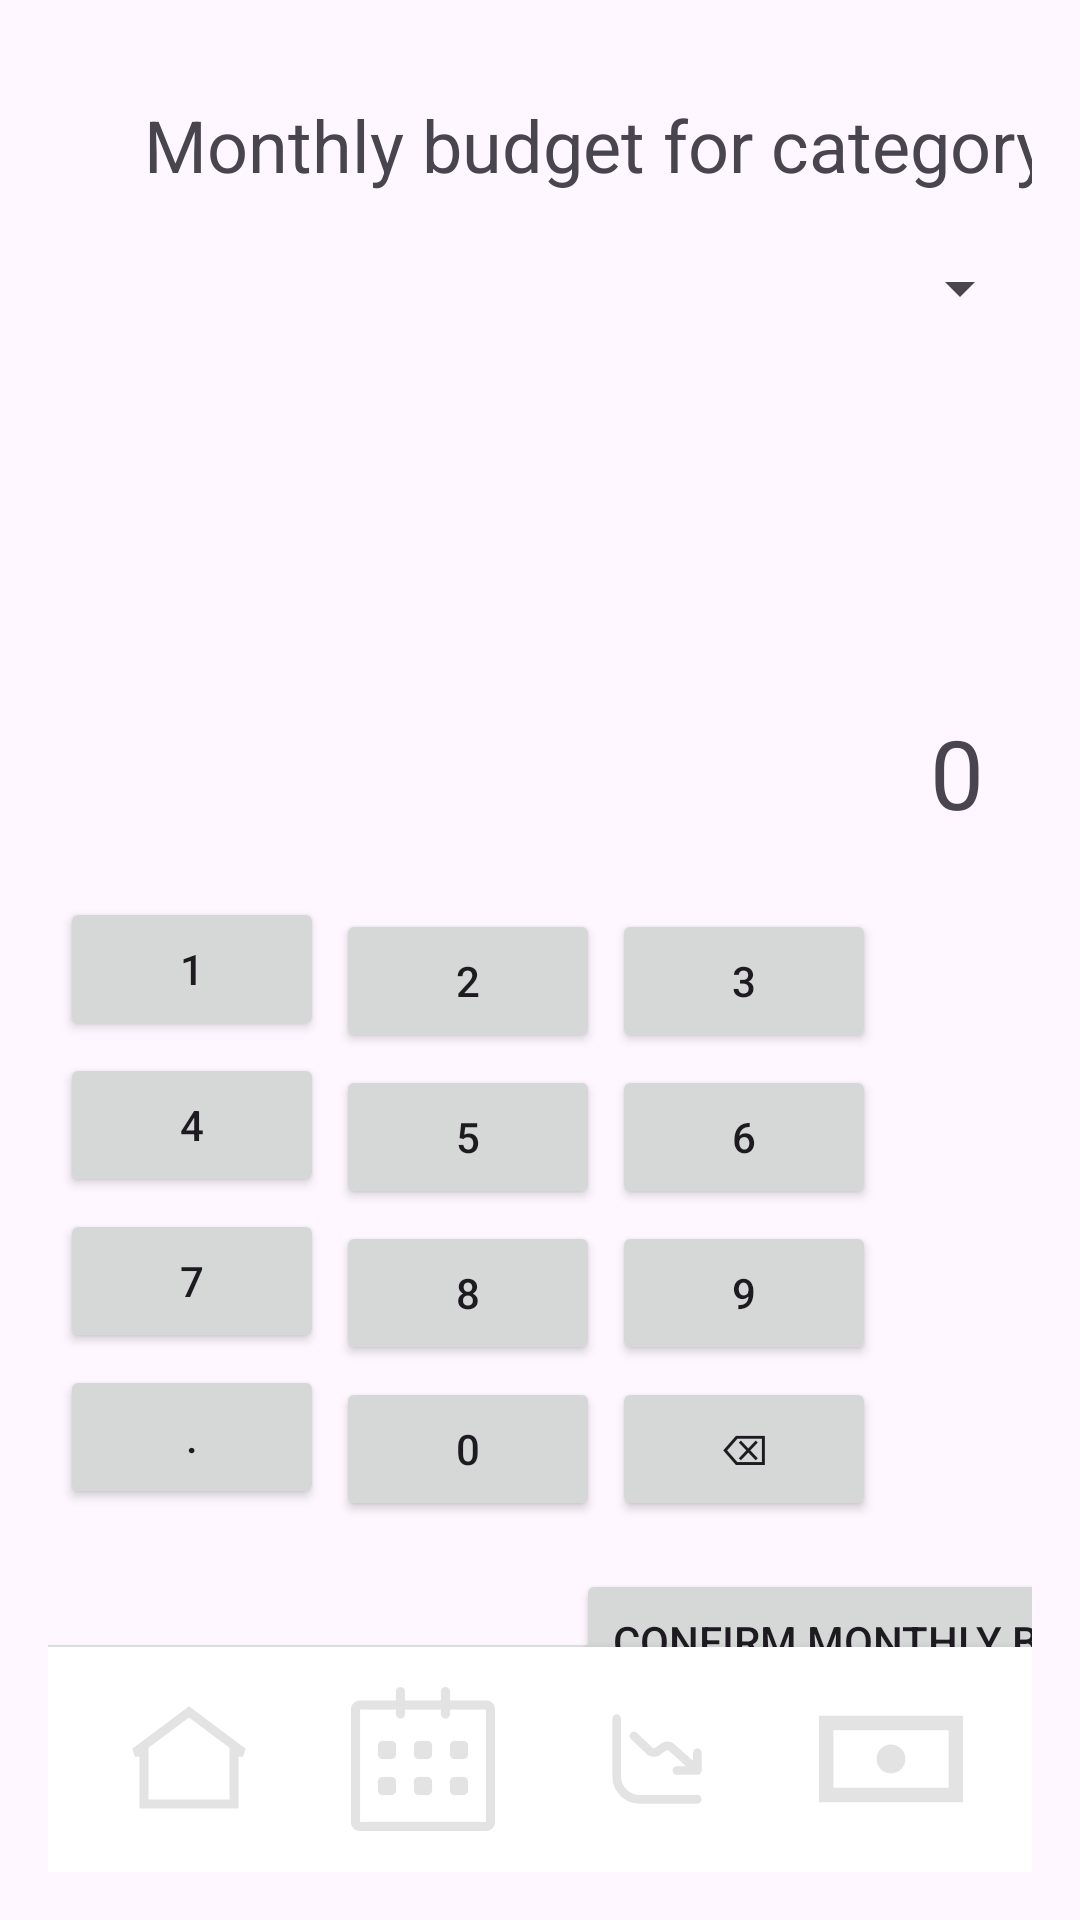

Icons on this 1080×1920 Android screen, each with the point to tap as [x,y]:
Calendar: [423,1759]
Graph: [657,1759]
Home: [189,1757]
